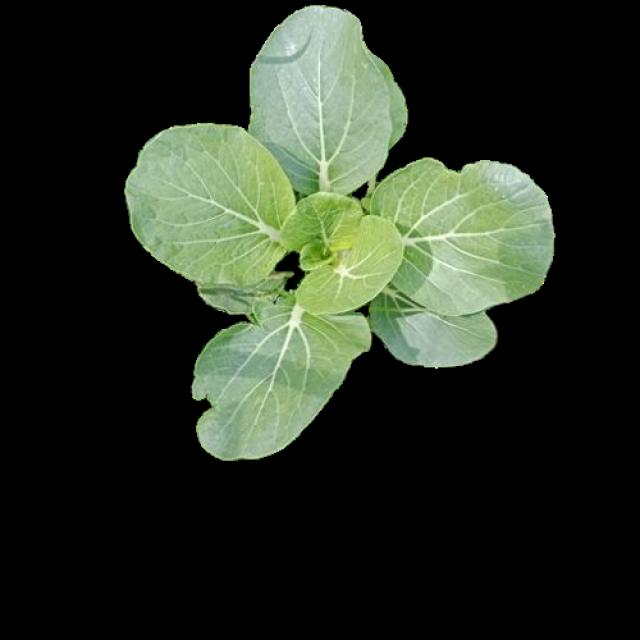not-mature: (130, 5, 554, 463)
unhealthy: (194, 295, 373, 453)
